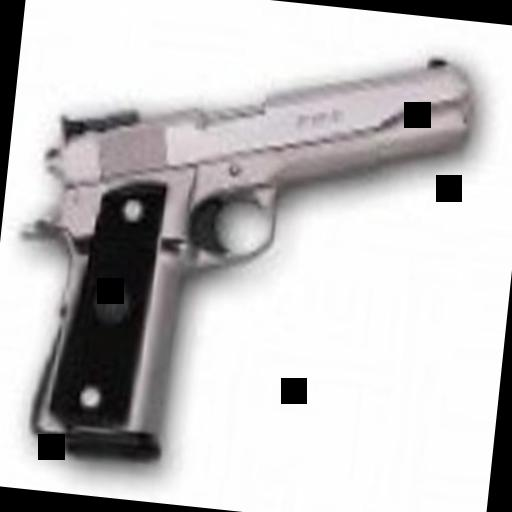Handgun: (2, 10, 475, 500)
